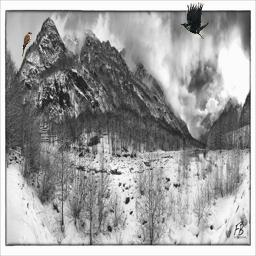Crow: (180, 2, 209, 39)
Cuckoo: (22, 32, 32, 57)
